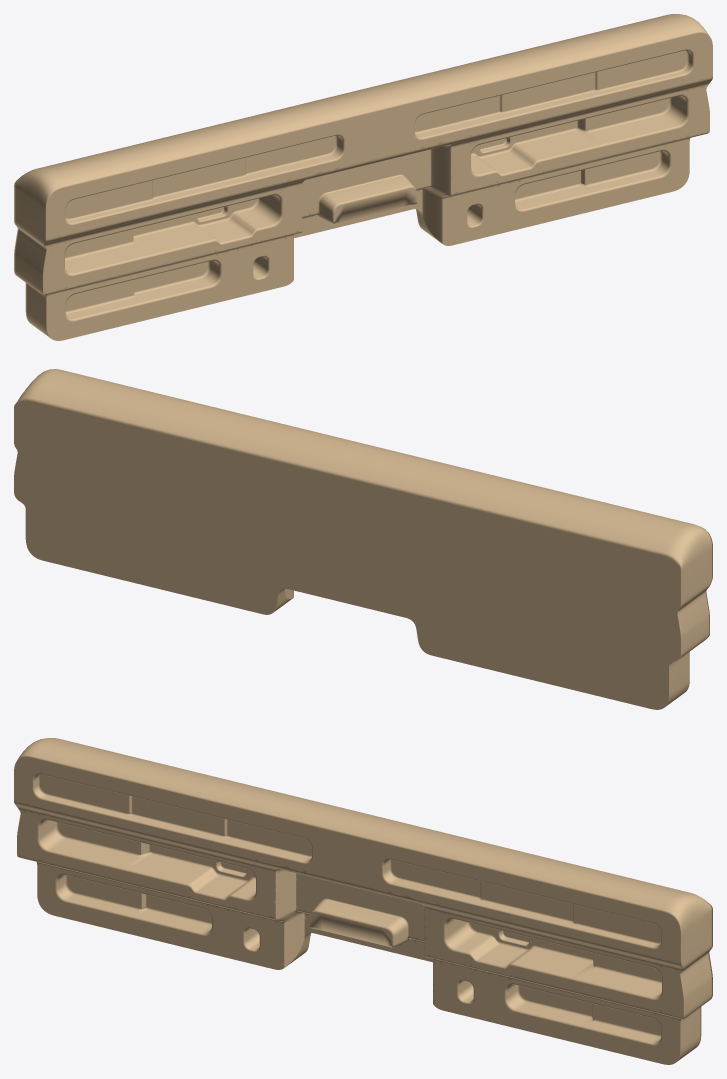
Rendered from frictitious-megalith.glb.
3 renders of one model, top to bottom at view 1: azimuth 30°, elevation 25°; view 2: azimuth 150°, elevation 25°; view 3: azimuth 330°, elevation 25°, orthographic.
Visible parts, largest first — view 1: body--board, hold--jug, hold--left-edge-40, hold--right-edge-40, hold--right-edge-30, hold--left-edge-30, hold--center-edge-25, hold--left-edge-20, hold--right-edge-20, hold--right-edge-15, hold--left-edge-12, hold--left-edge-15 (+5 smaller); view 2: body--board, hold--jug; view 3: body--board, hold--jug, hold--right-edge-40, hold--left-edge-40, hold--left-edge-30, hold--right-edge-30, hold--center-edge-25, hold--right-edge-20, hold--left-edge-15, hold--left-edge-20, hold--right-edge-12, hold--left-edge-12 (+5 smaller).
Boxes of the visible parts, box(x1,y1,x2,y2) form: body--board: box(14, 33, 712, 340); hold--jug: box(22, 14, 708, 196); hold--left-edge-40: box(133, 197, 283, 257); hold--right-edge-40: box(470, 127, 601, 177); hold--right-edge-30: box(582, 98, 689, 147); hold--left-edge-30: box(63, 241, 151, 276); hold--center-edge-25: box(318, 174, 415, 217); hold--left-edge-20: box(134, 263, 222, 304); hold--right-edge-20: box(514, 183, 593, 212); hold--right-edge-15: box(585, 156, 671, 194); hold--left-edge-12: box(245, 141, 345, 181); hold--left-edge-15: box(64, 295, 144, 321); body--board: box(14, 392, 712, 709); hold--jug: box(23, 369, 708, 556); body--board: box(14, 757, 712, 1064); hold--jug: box(18, 738, 704, 920); hold--right-edge-40: box(443, 921, 593, 981); hold--left-edge-40: box(125, 851, 256, 901); hold--left-edge-30: box(37, 822, 144, 871); hold--right-edge-30: box(575, 965, 663, 1000); hold--center-edge-25: box(311, 898, 408, 941); hold--right-edge-20: box(504, 987, 592, 1028); hold--left-edge-15: box(55, 880, 146, 919); hold--left-edge-20: box(135, 907, 212, 936); hold--right-edge-12: box(381, 865, 481, 905); hold--left-edge-12: box(219, 835, 312, 864).
Bounding box in the file's own units: 0.6794 × 0.1651 × 0.0571.
